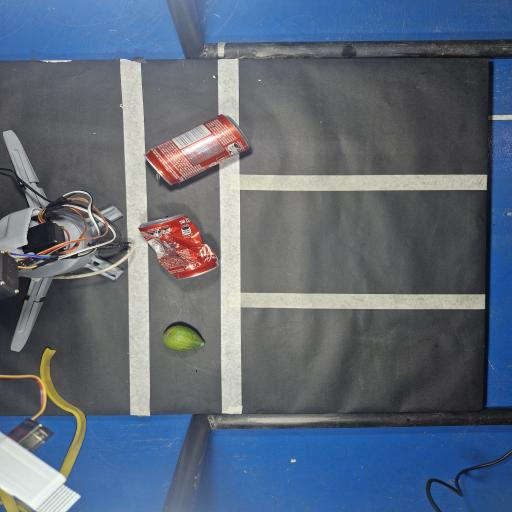higo: (163, 325, 204, 351)
lata: (145, 115, 248, 184)
lata_defectuoso: (139, 215, 218, 279)
